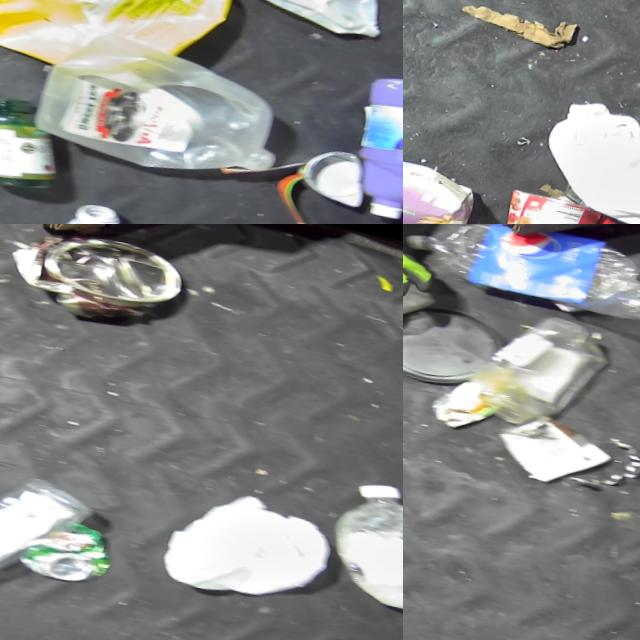can: (0, 224, 196, 323), (25, 512, 130, 587), (297, 135, 383, 202), (503, 181, 614, 224), (380, 245, 403, 309)
milk_jug: (30, 26, 305, 187), (158, 477, 355, 608), (536, 86, 640, 224), (187, 0, 403, 37)
non_white_jug: (0, 0, 249, 93), (345, 64, 403, 215), (403, 143, 495, 224)
plastic_bottle: (403, 224, 640, 329), (322, 465, 403, 608)
